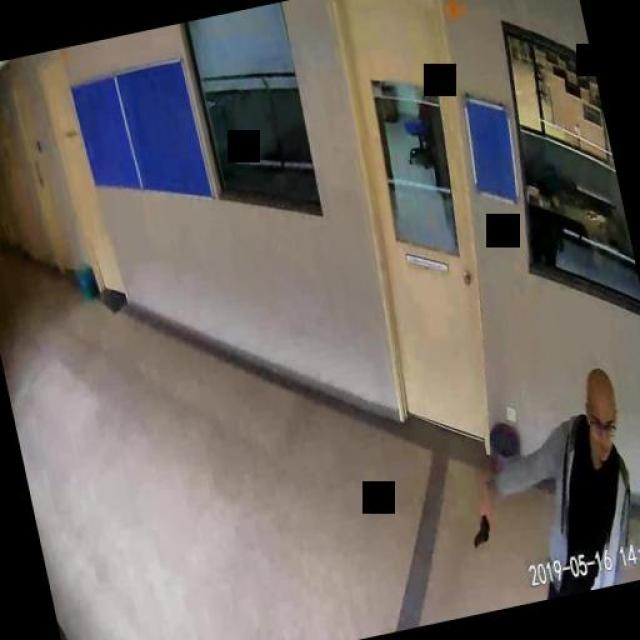gun: (463, 506, 492, 546)
